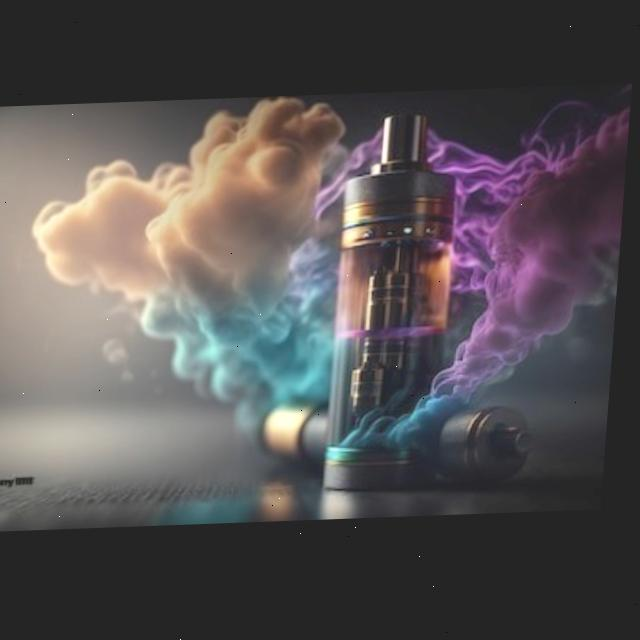vape: (329, 114, 466, 498)
